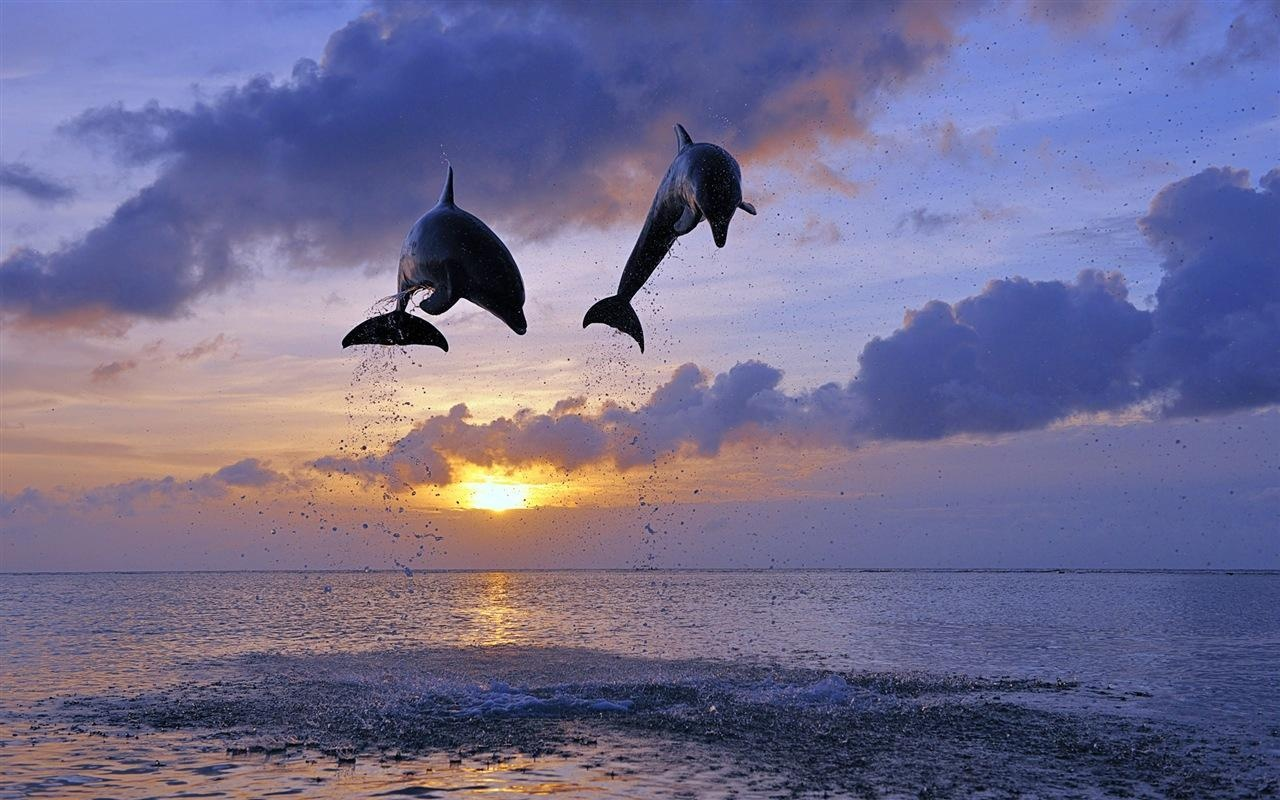fish: (580, 122, 761, 354), (335, 165, 528, 355)
